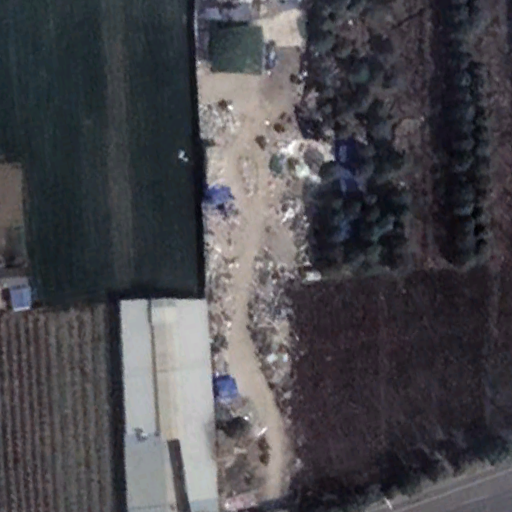msw: (205, 147, 309, 424)
